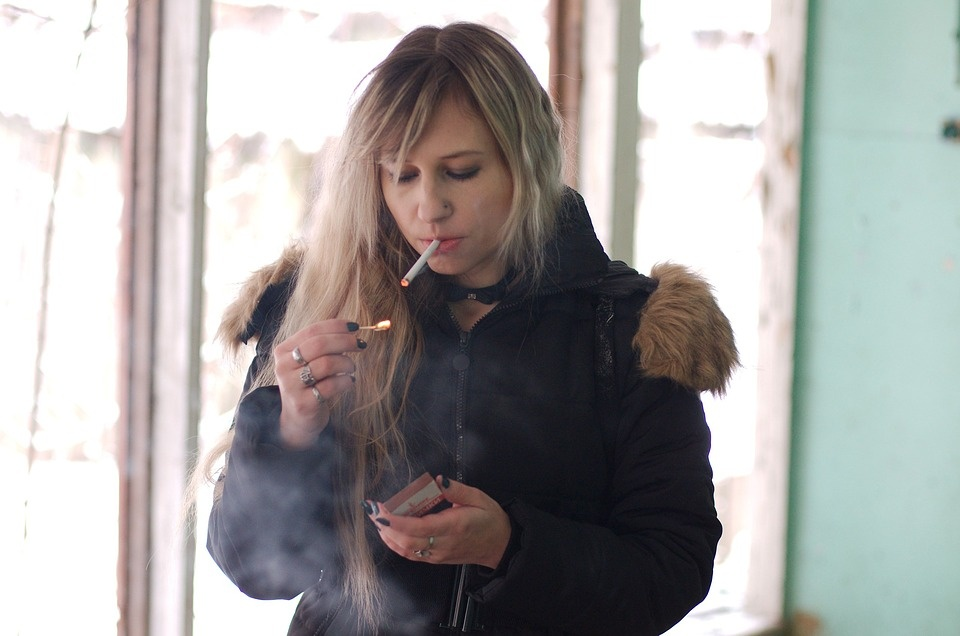sigaretta: (402, 230, 441, 286)
